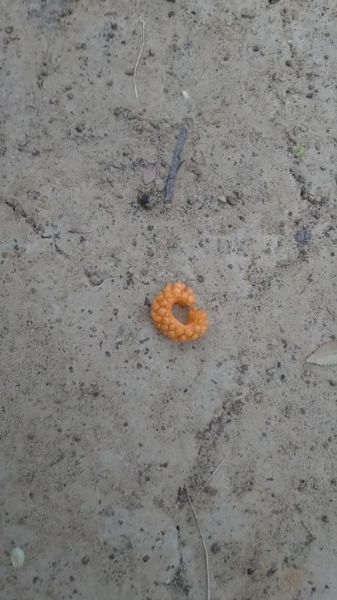eggs: (151, 279, 210, 346)
